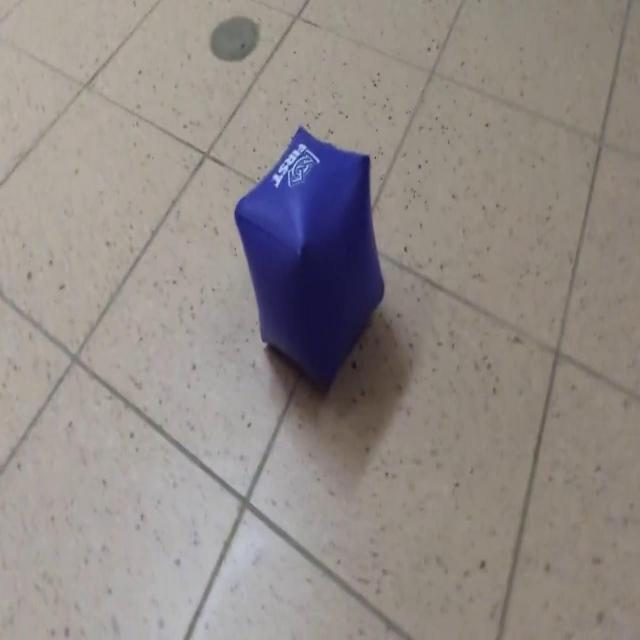frc_cube: (233, 124, 384, 391)
